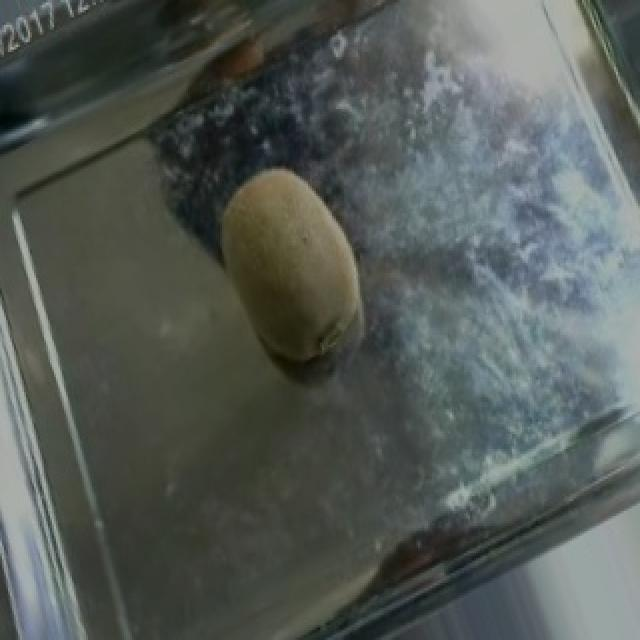Fruit: (188, 141, 408, 397)
